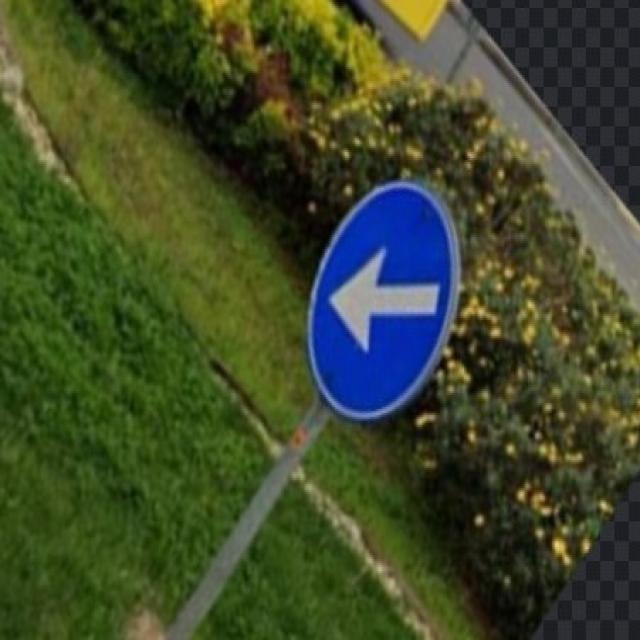Turn Left: (315, 183, 459, 418)
